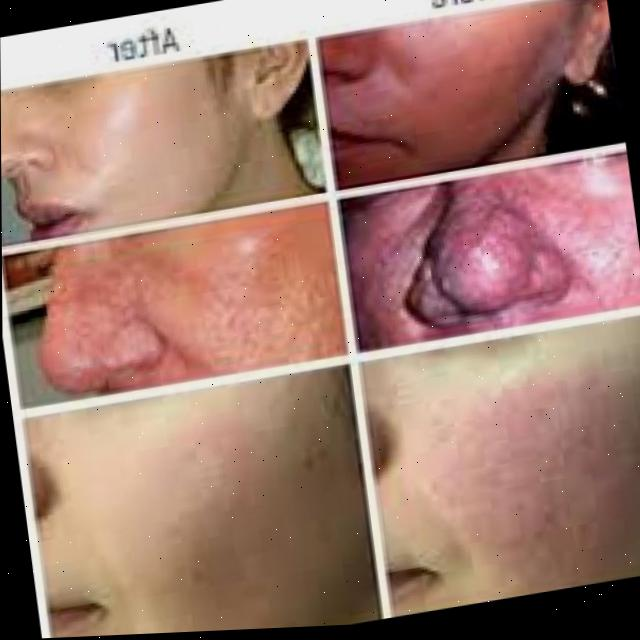Rosacea: (343, 164, 640, 344), (420, 357, 640, 579)
